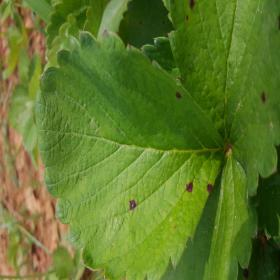Leaf Spot: (35, 28, 226, 279), (164, 0, 279, 198), (117, 0, 176, 52)
